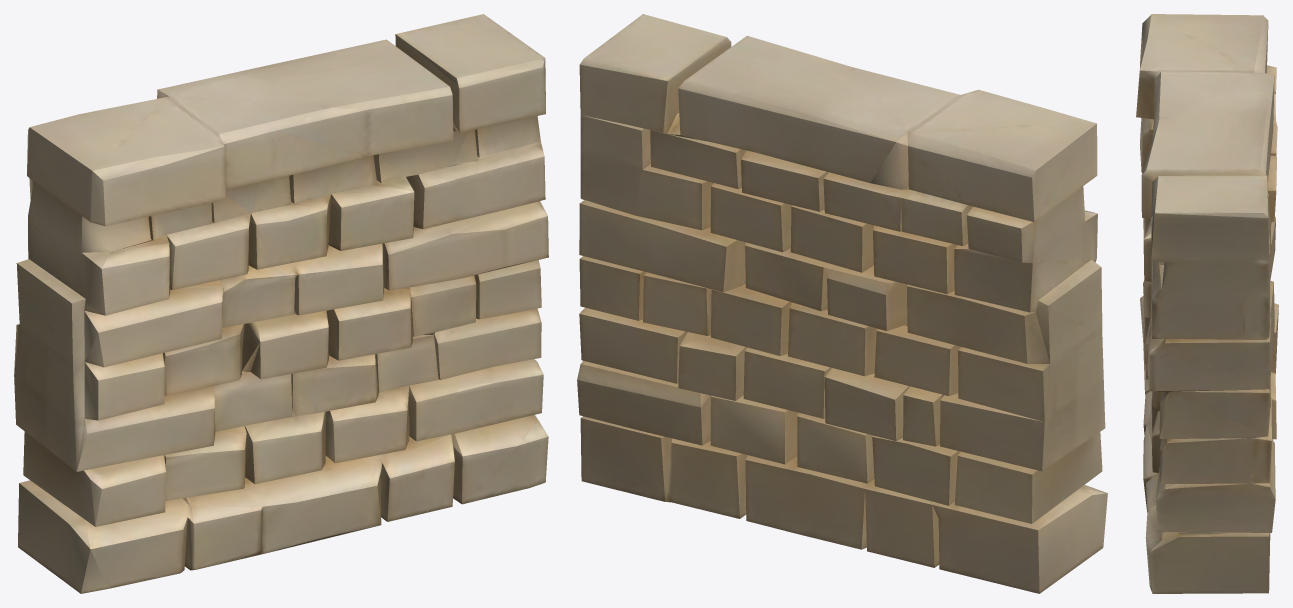
The model's file is buildWall.glb.
3 views of the same model, side by side, from view 1: azimuth 30°, elevation 25°; view 2: azimuth 150°, elevation 25°; view 3: azimuth 270°, elevation 25° (orthographic). The views are drawn at different scales.
Parts seen in each view (by area): view 1: model; view 2: model; view 3: model.
Boxes of the visible parts, x1=… form: model: x1=14, y1=14, x2=548, y2=593; model: x1=577, y1=14, x2=1107, y2=593; model: x1=1136, y1=14, x2=1278, y2=593.
Bounding box in the file's own units: 1.89 × 1.64 × 0.5554.
1 material, 1 textured.
